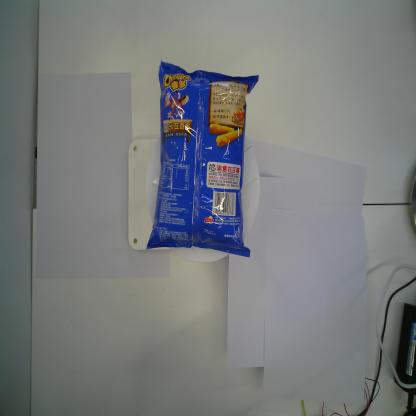Puffed Food: (145, 58, 260, 260)
